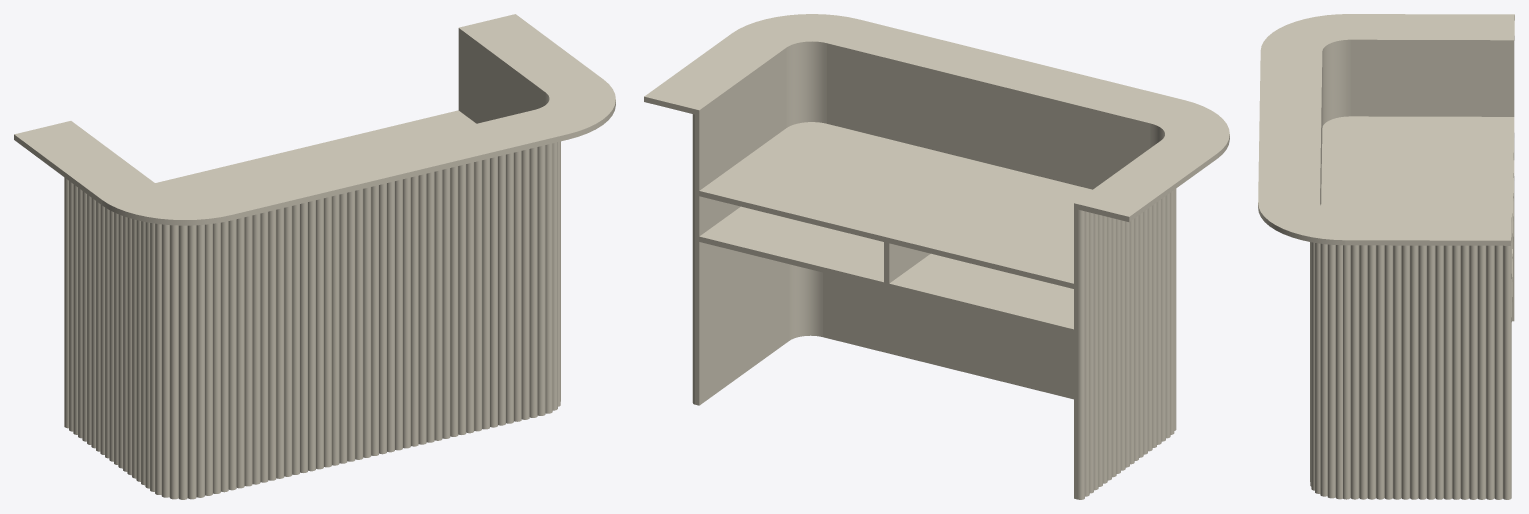
The model's file is RECEPTION DESK.fbx.
3 views of the same model, side by side, from view 1: azimuth 30°, elevation 25°; view 2: azimuth 150°, elevation 25°; view 3: azimuth 270°, elevation 25° (orthographic). The views are drawn at different scales.
Visible parts, largest first — view 1: Group15, WPC_4_56, WPC_4_34, WPC_4_12, WPC_4_35, WPC_4_13, WPC_4_42, WPC_4_66, WPC_4_36, WPC_4_47, WPC_4_50, WPC_4_69 (+61 smaller); view 2: Group15, WPC_4_11, WPC_4_17, WPC_4_28, WPC_4_25, WPC_4_20, WPC_4_18, WPC_4_22, WPC_4_21, WPC_4_19, WPC_4_24, WPC_4_15 (+12 smaller); view 3: Group15, WPC_4_10, WPC_4_91, WPC_4_93, WPC_4_81, WPC_4_80, WPC_4_83, WPC_4_85, WPC_4_92, WPC_4_82, WPC_4_86, WPC_4_88 (+15 smaller).
Boxes of the visible parts, x1,y1,x2,y2 form: Group15: (14, 14, 615, 225); WPC_4_56: (178, 225, 187, 499); WPC_4_34: (169, 225, 178, 499); WPC_4_12: (187, 225, 196, 499); WPC_4_35: (161, 224, 169, 497); WPC_4_13: (196, 224, 204, 497); WPC_4_42: (252, 213, 260, 484); WPC_4_66: (474, 160, 482, 431); WPC_4_36: (228, 219, 236, 490); WPC_4_47: (236, 217, 244, 488); WPC_4_50: (244, 215, 252, 486); WPC_4_69: (466, 162, 474, 433); Group15: (644, 14, 1229, 499); WPC_4_11: (1078, 209, 1084, 499); WPC_4_17: (1085, 211, 1089, 496); WPC_4_28: (1089, 212, 1093, 493); WPC_4_25: (1094, 213, 1098, 490); WPC_4_20: (1098, 215, 1102, 486); WPC_4_18: (1103, 216, 1107, 483); WPC_4_22: (1107, 217, 1111, 480); WPC_4_21: (1112, 218, 1116, 477); WPC_4_19: (1116, 219, 1120, 473); WPC_4_24: (1121, 220, 1125, 470); WPC_4_15: (1125, 221, 1129, 467); Group15: (1258, 14, 1514, 321); WPC_4_10: (1350, 245, 1359, 499); WPC_4_91: (1443, 245, 1452, 499); WPC_4_93: (1460, 245, 1469, 499); WPC_4_81: (1503, 222, 1511, 499); WPC_4_80: (1469, 245, 1477, 499); WPC_4_83: (1435, 245, 1443, 499); WPC_4_85: (1452, 245, 1460, 499); WPC_4_92: (1486, 245, 1494, 499); WPC_4_82: (1418, 245, 1426, 499); WPC_4_86: (1494, 245, 1502, 499); WPC_4_88: (1401, 245, 1409, 499).
Size of the model in its own units: 1902 by 1100 by 910.
